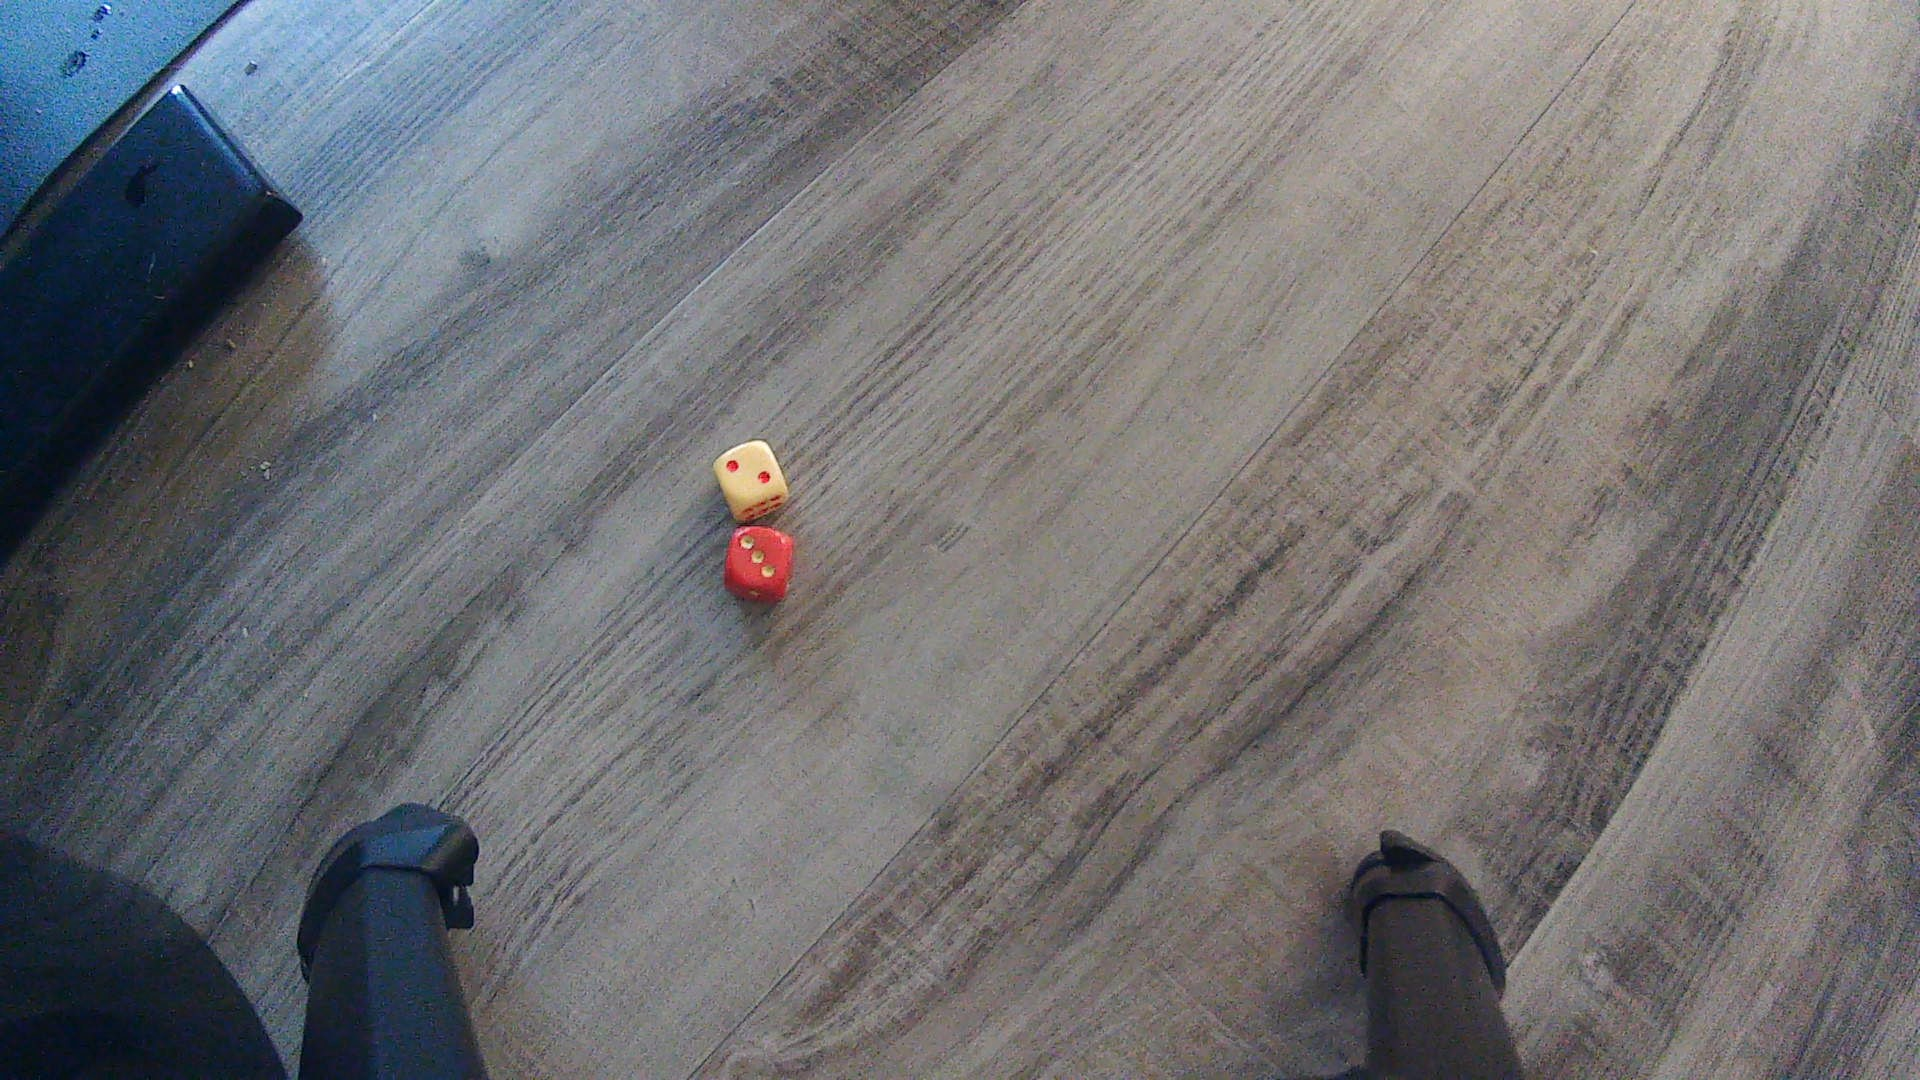die: (711, 438, 790, 524), (723, 524, 795, 607)
